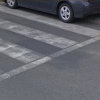crosswalk: (0, 19, 80, 63)
